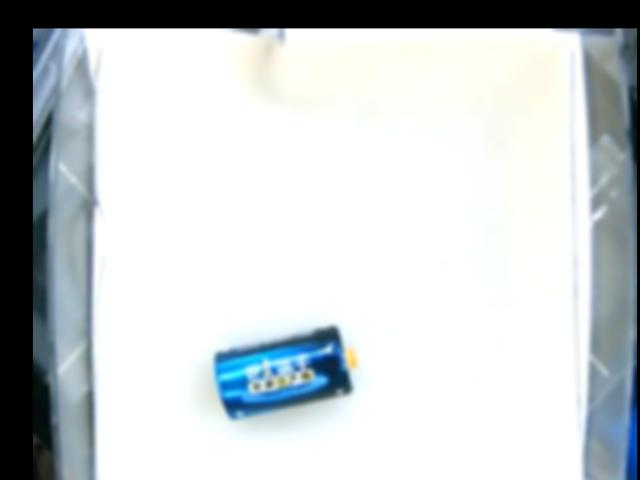Battery: (212, 324, 362, 421)
